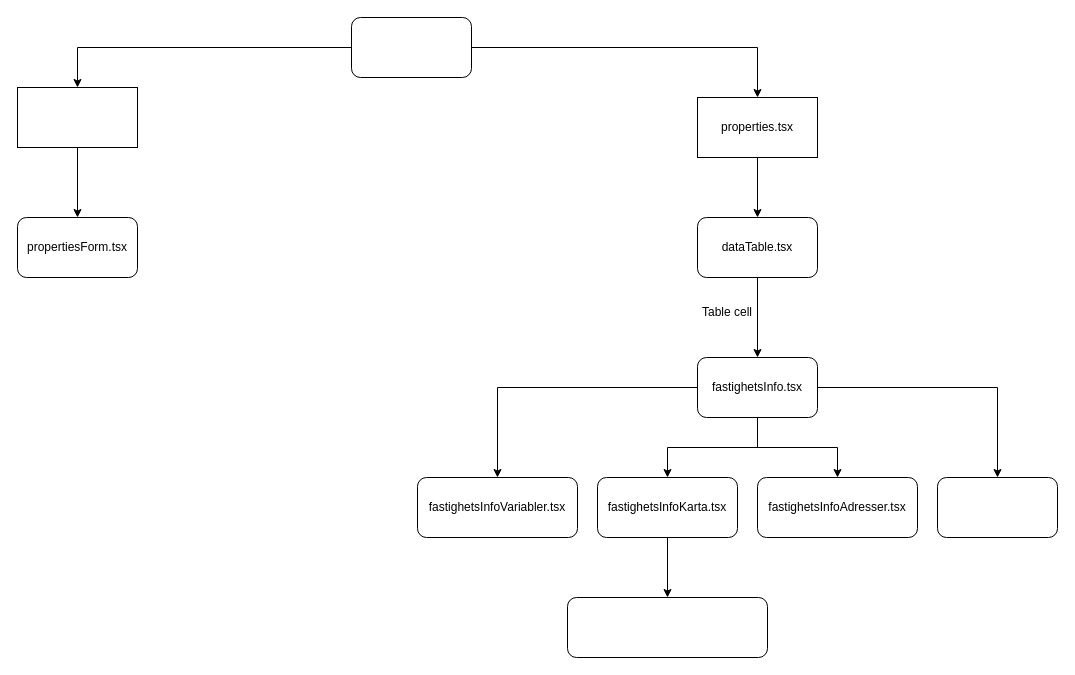
The diagram is 1075 pixels wide and 675 high, and some of its shapes have lost their labels. Here are the shapes that lost their labels. From the top down, the box of each, then its label:
(350, 16, 472, 78): navbar.tsx
(16, 86, 138, 148): map.tsx
(936, 476, 1058, 538): fileUpload.tsx
(566, 596, 768, 658): fastighetsInfoRedigeraPolygon.tsx
